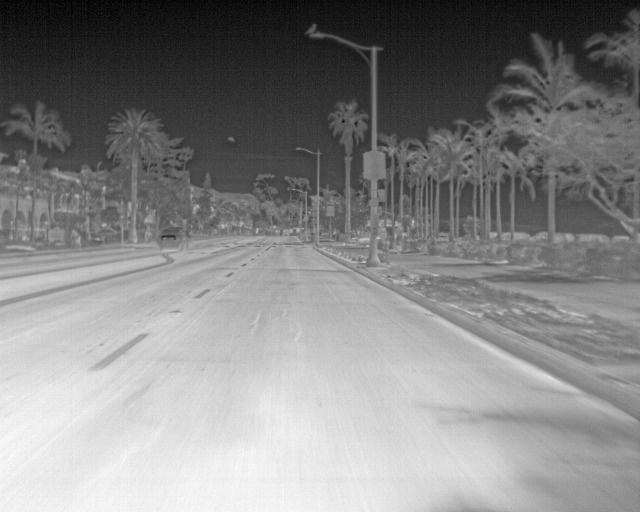bicycle: (155, 226, 185, 250)
